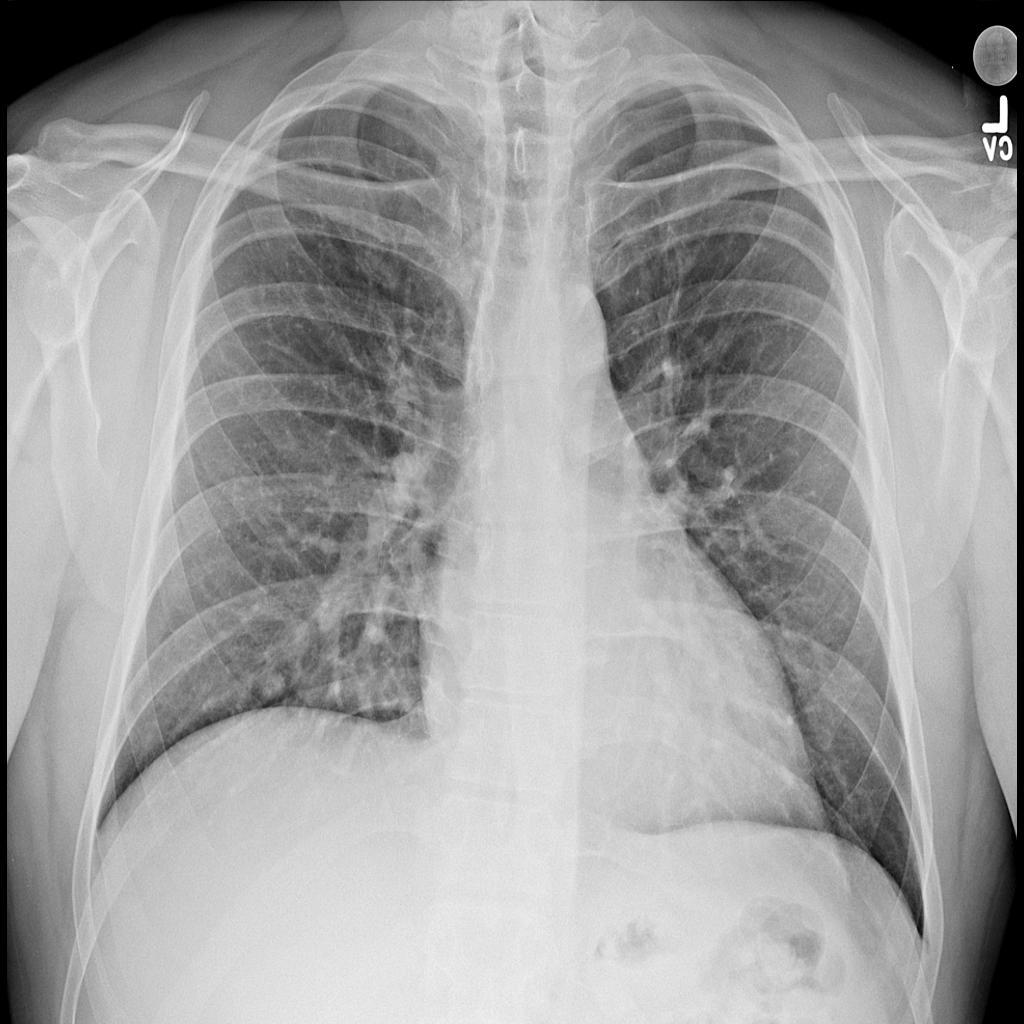Nodule: (252, 659, 295, 712)
